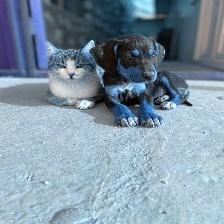kedo: (44, 39, 103, 109)
